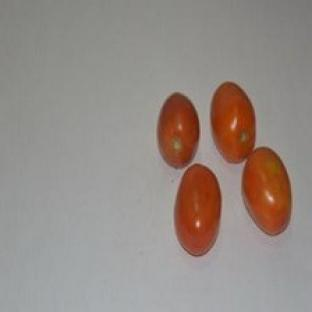Tomato: (175, 165, 221, 256), (243, 148, 291, 235), (211, 83, 256, 162), (158, 94, 199, 168)
